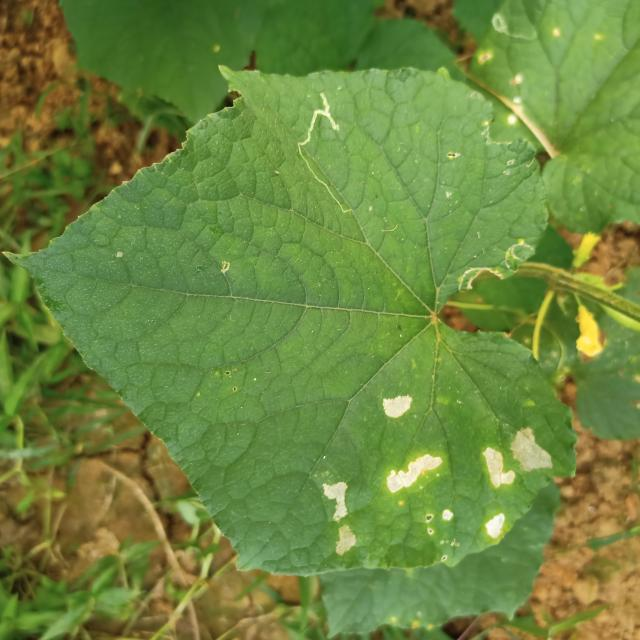disease_cucumber: (476, 422, 554, 544), (383, 450, 461, 535), (317, 474, 364, 560), (379, 389, 416, 424)
